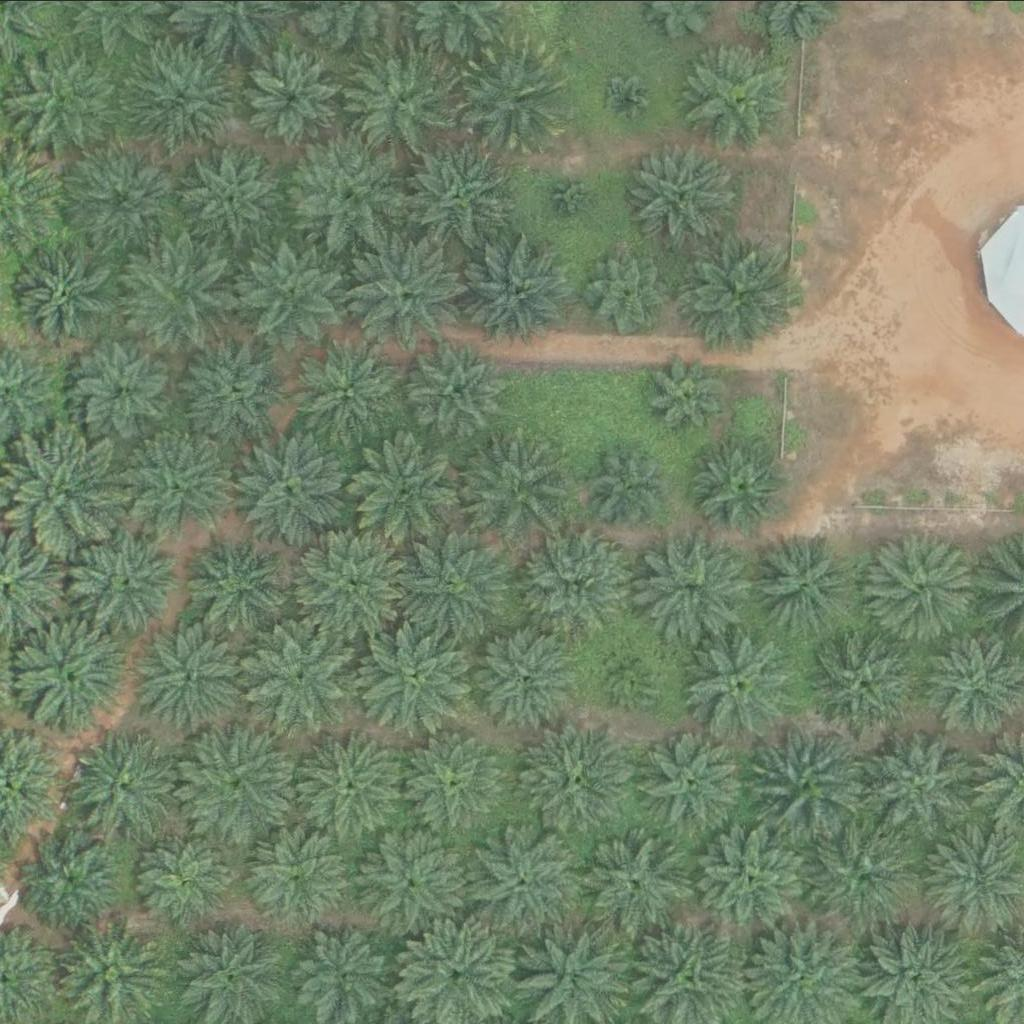Kelapa_Sawit: (8, 41, 122, 154), (128, 38, 242, 151), (517, 524, 631, 637), (358, 618, 472, 731), (806, 819, 920, 932), (11, 615, 124, 728), (7, 433, 120, 546), (238, 234, 351, 347), (351, 234, 464, 347), (466, 231, 579, 344), (287, 336, 400, 449), (298, 520, 411, 633), (393, 526, 506, 639), (133, 619, 246, 732), (249, 615, 362, 728), (68, 728, 181, 841), (182, 723, 295, 836), (684, 626, 797, 739), (806, 629, 919, 742), (641, 530, 754, 643), (745, 526, 858, 639), (868, 526, 981, 639), (679, 231, 792, 344), (296, 723, 410, 835), (696, 818, 810, 930), (861, 726, 975, 838), (679, 40, 793, 152), (455, 41, 568, 153), (66, 143, 179, 255), (345, 43, 458, 155), (291, 143, 404, 255), (398, 139, 511, 251), (120, 240, 233, 352), (124, 428, 237, 540), (235, 431, 348, 543), (347, 426, 460, 538), (454, 427, 567, 539), (69, 521, 182, 633), (522, 721, 635, 833), (359, 822, 472, 934), (469, 818, 582, 930), (578, 824, 691, 936), (754, 726, 867, 838), (629, 139, 742, 251), (19, 830, 120, 930), (76, 338, 177, 438), (18, 238, 119, 338), (242, 46, 343, 146), (183, 144, 284, 244), (180, 338, 281, 438), (407, 337, 508, 437), (186, 528, 287, 628), (643, 728, 744, 828), (475, 623, 575, 723), (406, 730, 506, 830), (138, 829, 238, 929), (252, 824, 352, 924), (296, 921, 396, 1021), (697, 440, 786, 528), (587, 245, 675, 332), (597, 444, 673, 519), (648, 358, 723, 433), (600, 640, 663, 702), (545, 167, 596, 217), (601, 73, 652, 123)
